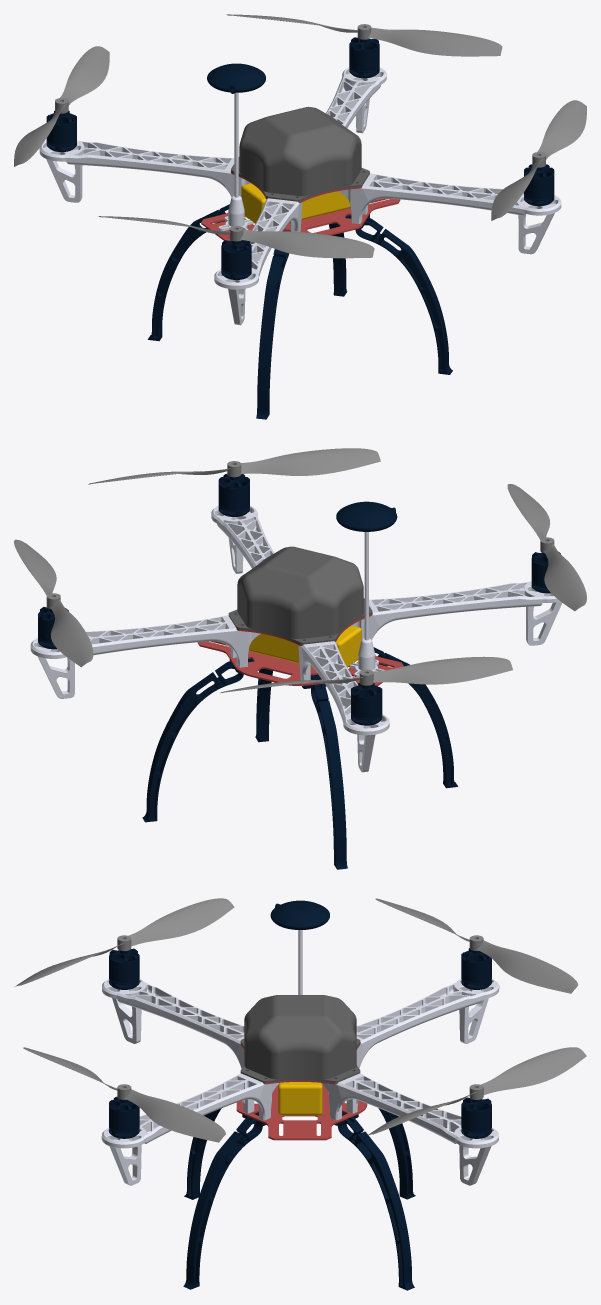
The model's file is f450 drone.gltf.
3 renders of one model, top to bottom at view 1: azimuth 30°, elevation 25°; view 2: azimuth 150°, elevation 25°; view 3: azimuth 270°, elevation 25°, orthographic. The views are drawn at different scales.
Visible parts, largest first — view 1: Body_1 (×21); view 2: Body_1 (×21); view 3: Body_1 (×20).
Boxes of the visible parts, left/top/right/bottom form: Body_1 (×21): left=14, top=14, right=586, bottom=419; Body_1 (×21): left=14, top=448, right=586, bottom=869; Body_1 (×20): left=15, top=898, right=586, bottom=1290.
Size of the model in its own units: 0.5169 by 0.3023 by 0.5169.
